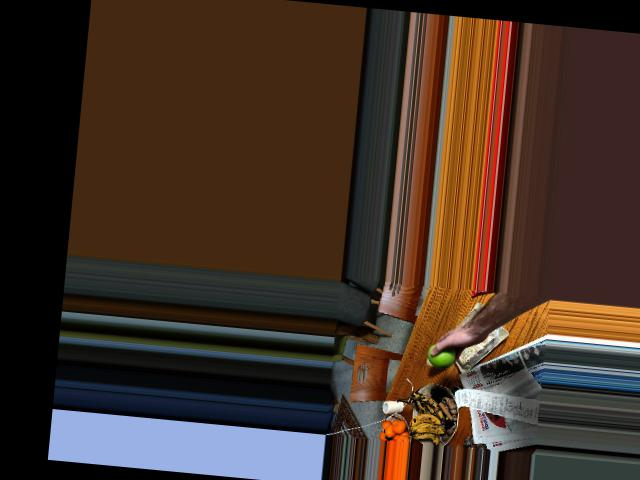apple: (425, 338, 460, 370)
